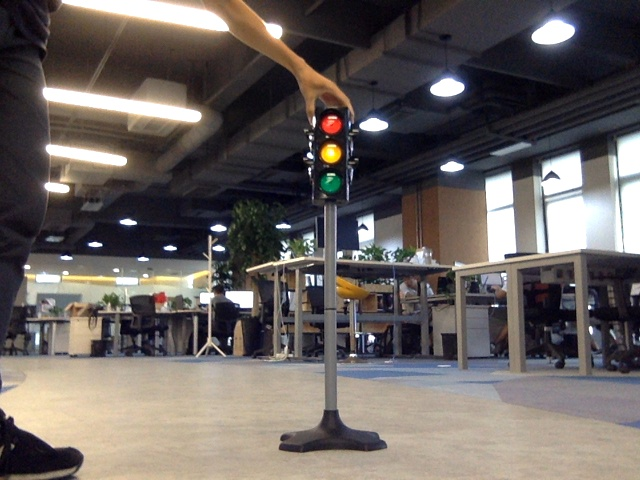yellow: (317, 113, 347, 193)
